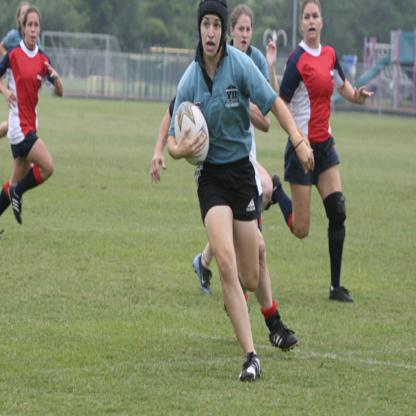Ball: (174, 101, 210, 165)
